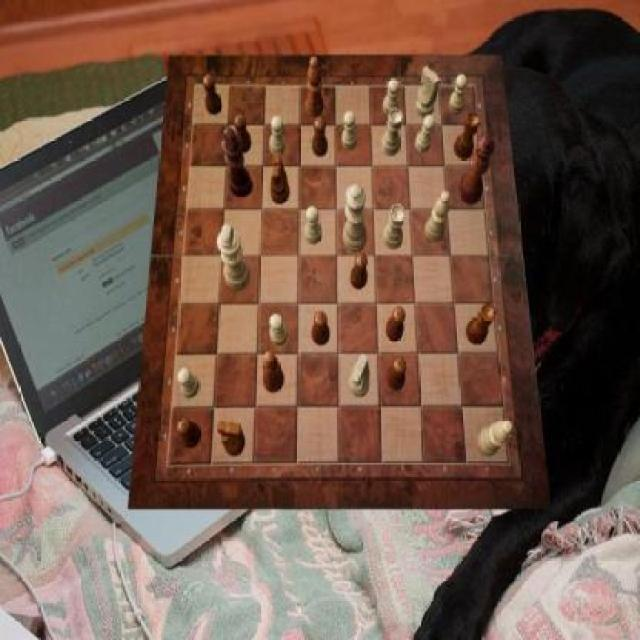bishop: (306, 57, 324, 118), (263, 351, 285, 393)
black-bishop: (221, 128, 254, 198)
black-king: (271, 152, 291, 205), (217, 420, 245, 456)
black-knight: (177, 417, 201, 449), (203, 76, 222, 116), (386, 306, 406, 342), (388, 357, 408, 391), (234, 114, 251, 154), (351, 252, 368, 290), (312, 118, 328, 158), (312, 311, 330, 345)
black-pawn: (458, 132, 496, 206)
black-queen: (466, 303, 497, 345), (454, 112, 481, 160)
black-rook: (478, 419, 514, 456), (426, 190, 451, 242)
white-bishop: (217, 224, 251, 290)
white-king: (415, 66, 440, 119), (348, 354, 370, 396)
white-knight: (416, 115, 436, 154), (449, 74, 467, 114), (178, 368, 201, 398), (306, 206, 323, 244), (270, 117, 286, 157), (341, 111, 357, 151), (383, 79, 400, 116), (270, 314, 288, 346)
white-pawn: (343, 185, 368, 252)
white-queen: (381, 109, 404, 157), (383, 205, 406, 250)
